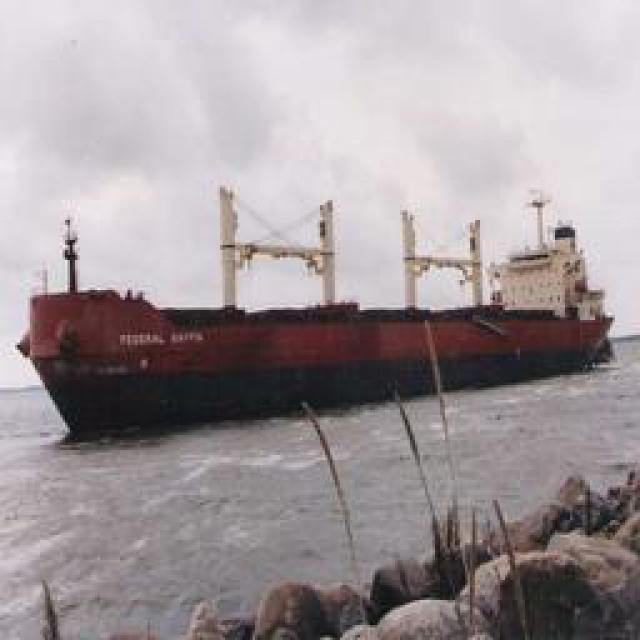CIV_Ship: (16, 172, 612, 436)
